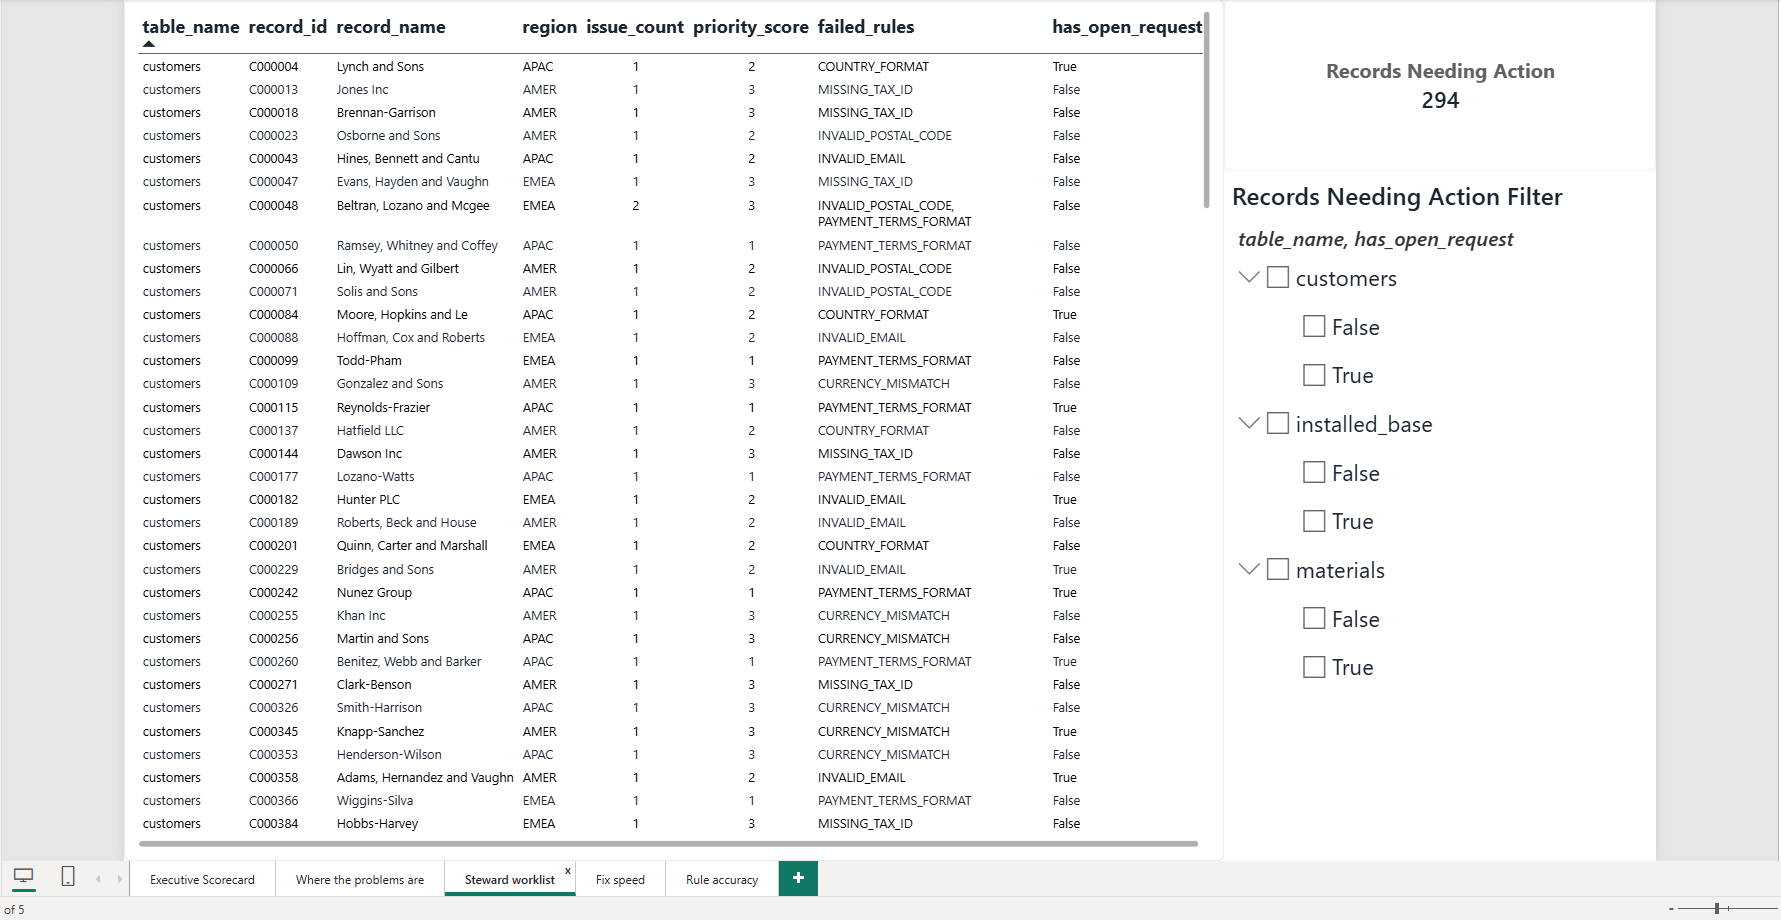

The dashboard page shown, as its layout file describes it:
{"tool":"powerbi","page":{"name":"Steward worklist","canvas":[1920,1080],"ordinal":2},"visuals":[{"type":"tableEx","fields":{"Values":["dq_worklist.table_name","dq_worklist.record_id","dq_worklist.record_name","dq_worklist.region","dq_worklist.issue_count","dq_worklist.priority_score","dq_worklist.failed_rules","dq_worklist.has_open_request"]},"box":[0,0,1378.3,1080],"z":0},{"type":"cardVisual","fields":{"Data":["_Measures.Records Needing Action"]},"box":[1378.3,0,541.7,215],"z":1000},{"type":"slicer","title":"Records Needing Action Filter","fields":{"Values":["dq_worklist.table_name","dq_worklist.has_open_request"]},"box":[1378.3,215,541.7,865],"z":2000}]}

Visuals, with their boxes on the page's 1920x1080 design canvas (x1, y1, x2, y2). These are canvas units, not pixel positions in the 1781x920 screenshot, which may show the page scaled, cropped or inside an application window:
tableEx - dq_worklist.table_name x dq_worklist.record_id: detection(0, 0, 1378, 1080)
cardVisual - _Measures.Records Needing Action: detection(1378, 0, 1920, 215)
"Records Needing Action Filter" slicer: detection(1378, 215, 1920, 1080)
